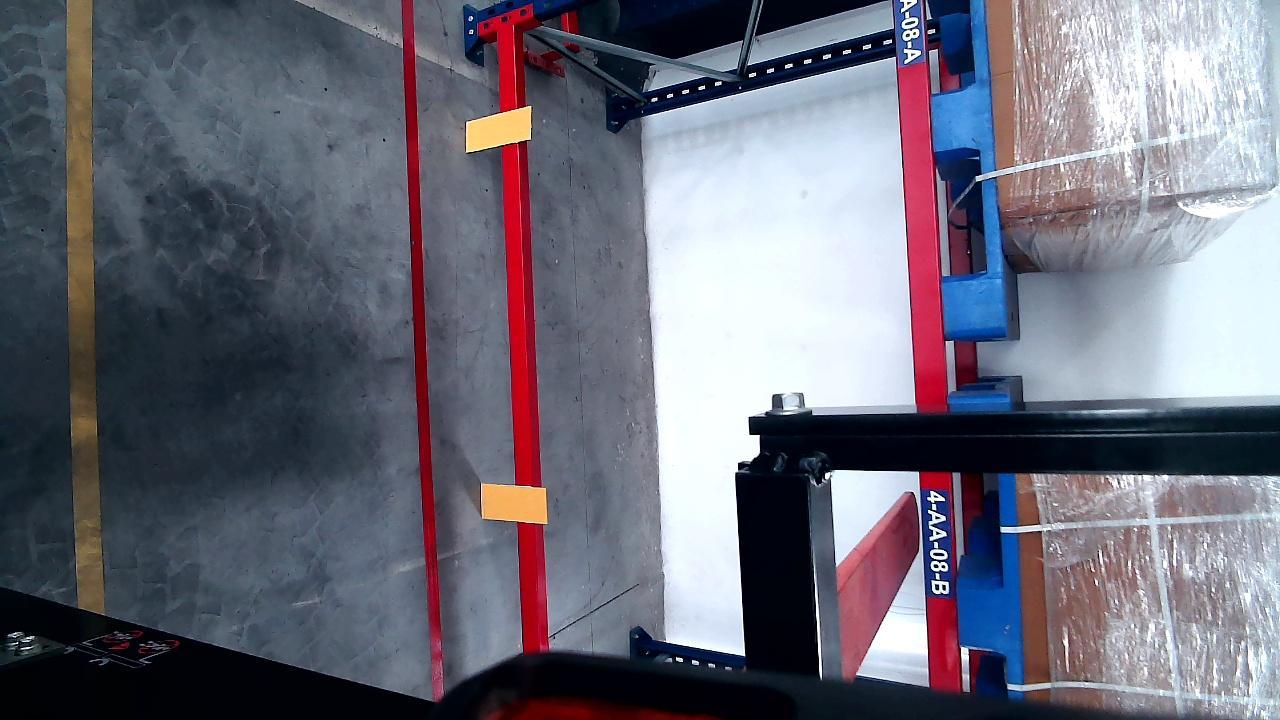red_line: (399, 0, 447, 701)
yellow_line: (64, 0, 102, 614)
